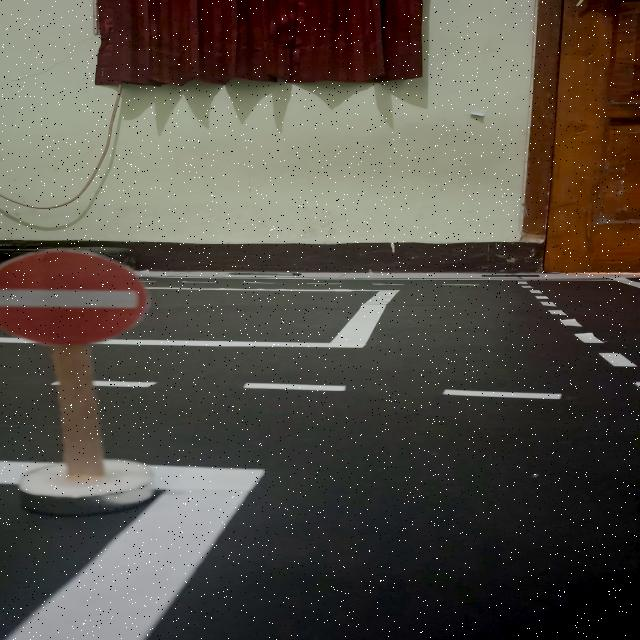Dilarang Masuk: (0, 248, 150, 348)
